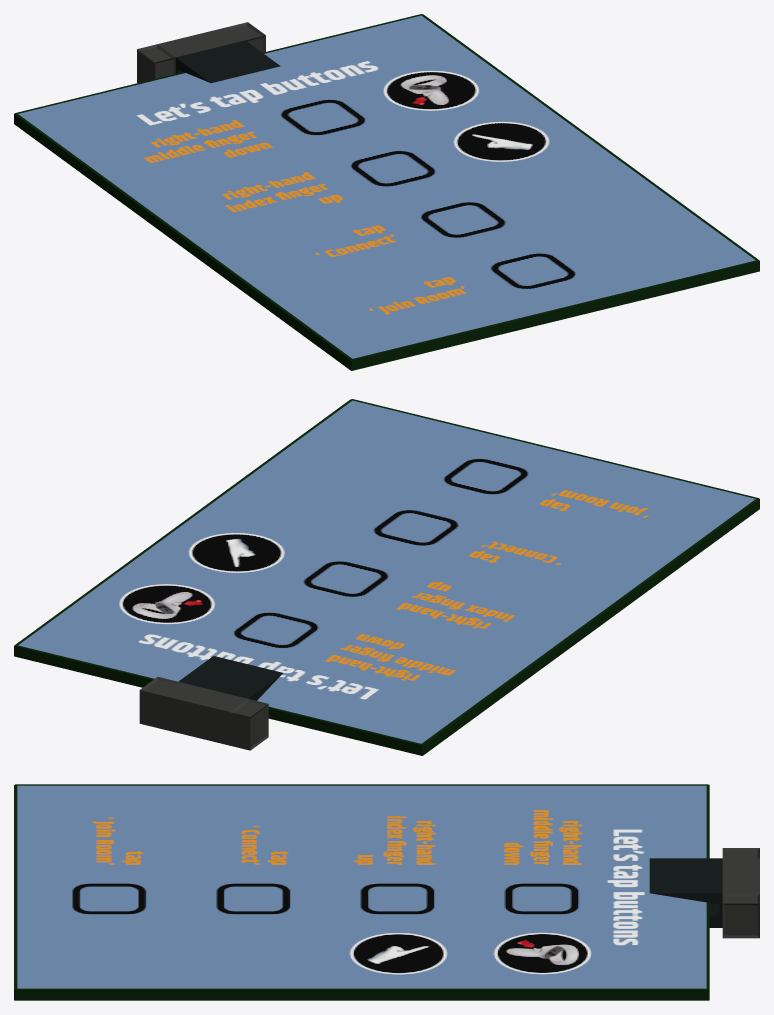
The model's file is clip_lobby.obj.
3 renders of one model, top to bottom at view 1: azimuth 30°, elevation 25°; view 2: azimuth 150°, elevation 25°; view 3: azimuth 270°, elevation 25°, orthographic. The views are drawn at different scales.
Visible parts, largest first — view 1: clip_lobby; view 2: clip_lobby; view 3: clip_lobby.
Part boxes in pixels (bbox=[...]): clip_lobby: bbox=[14, 14, 759, 370]; clip_lobby: bbox=[14, 399, 759, 755]; clip_lobby: bbox=[14, 784, 759, 1000].
Size of the model in its own units: 0.2144 by 0.0169 by 0.3289.
4 materials, 1 textured.
